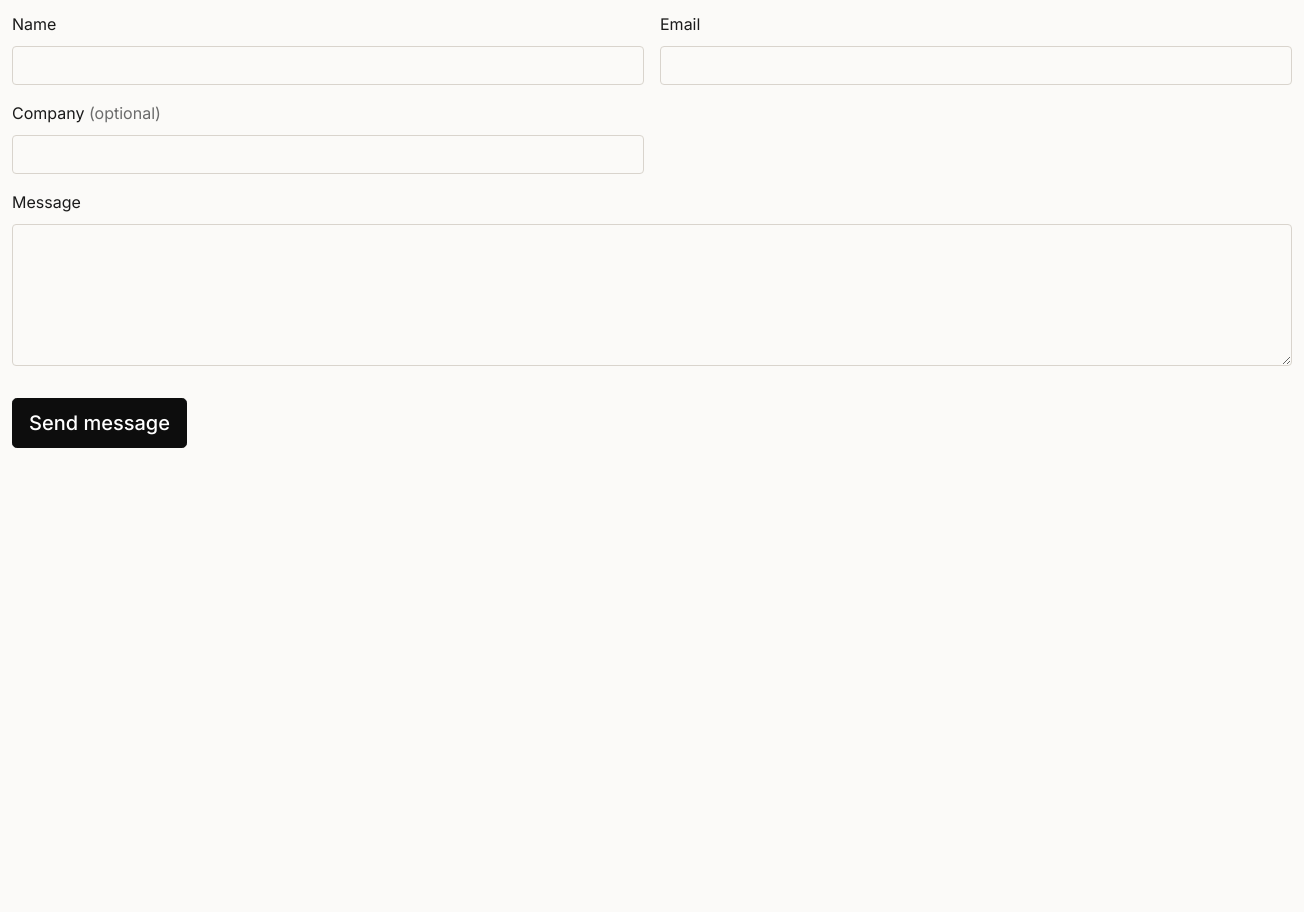
<ContactForm /> › submits to /api/contact and shows a success toast
In the field labelled "Name": (328, 65) [12, 46, 644, 85], type "Jane Doe"
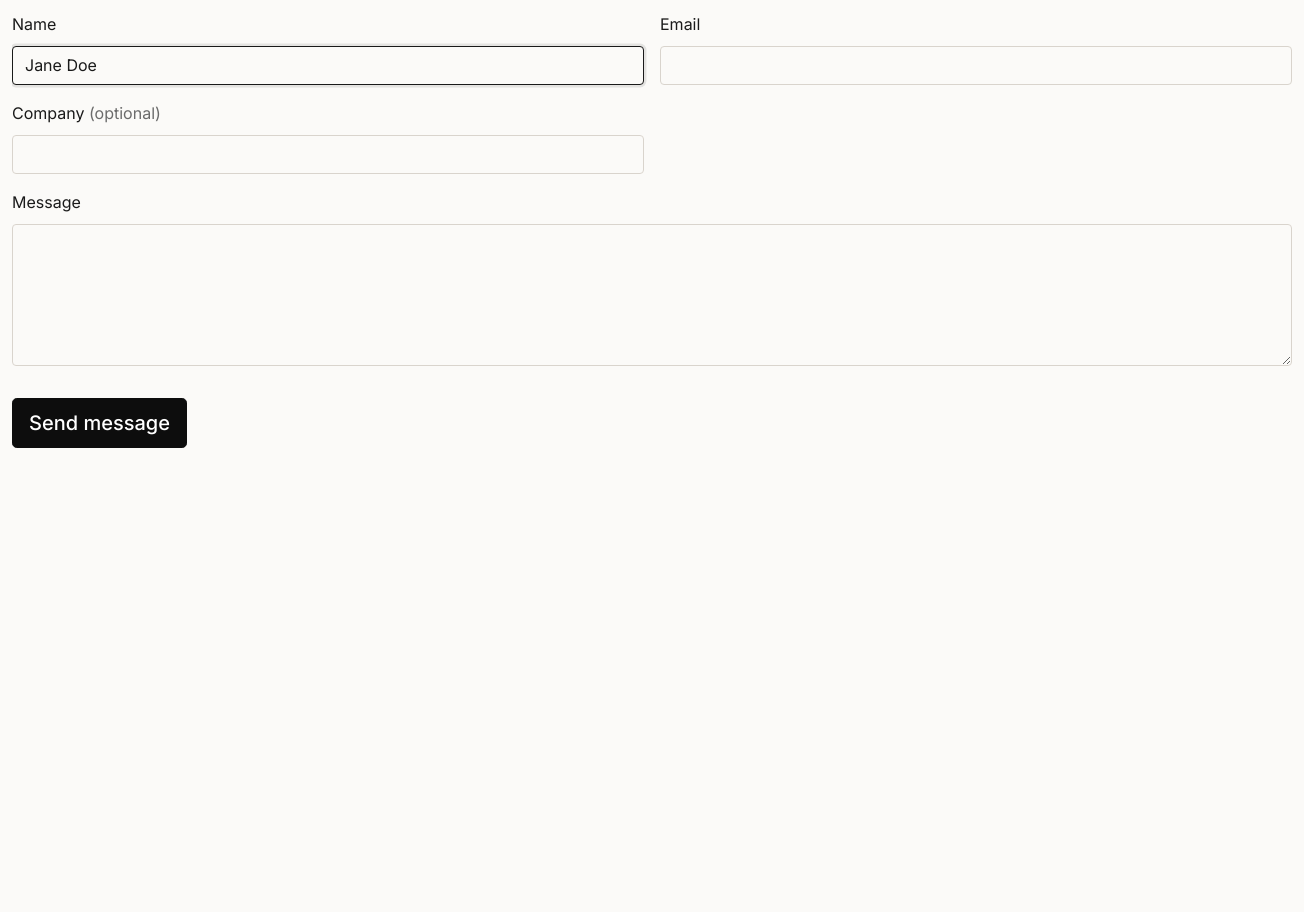
In the field labelled "Email": (976, 65) [660, 46, 1292, 85], type "jane@example.com"
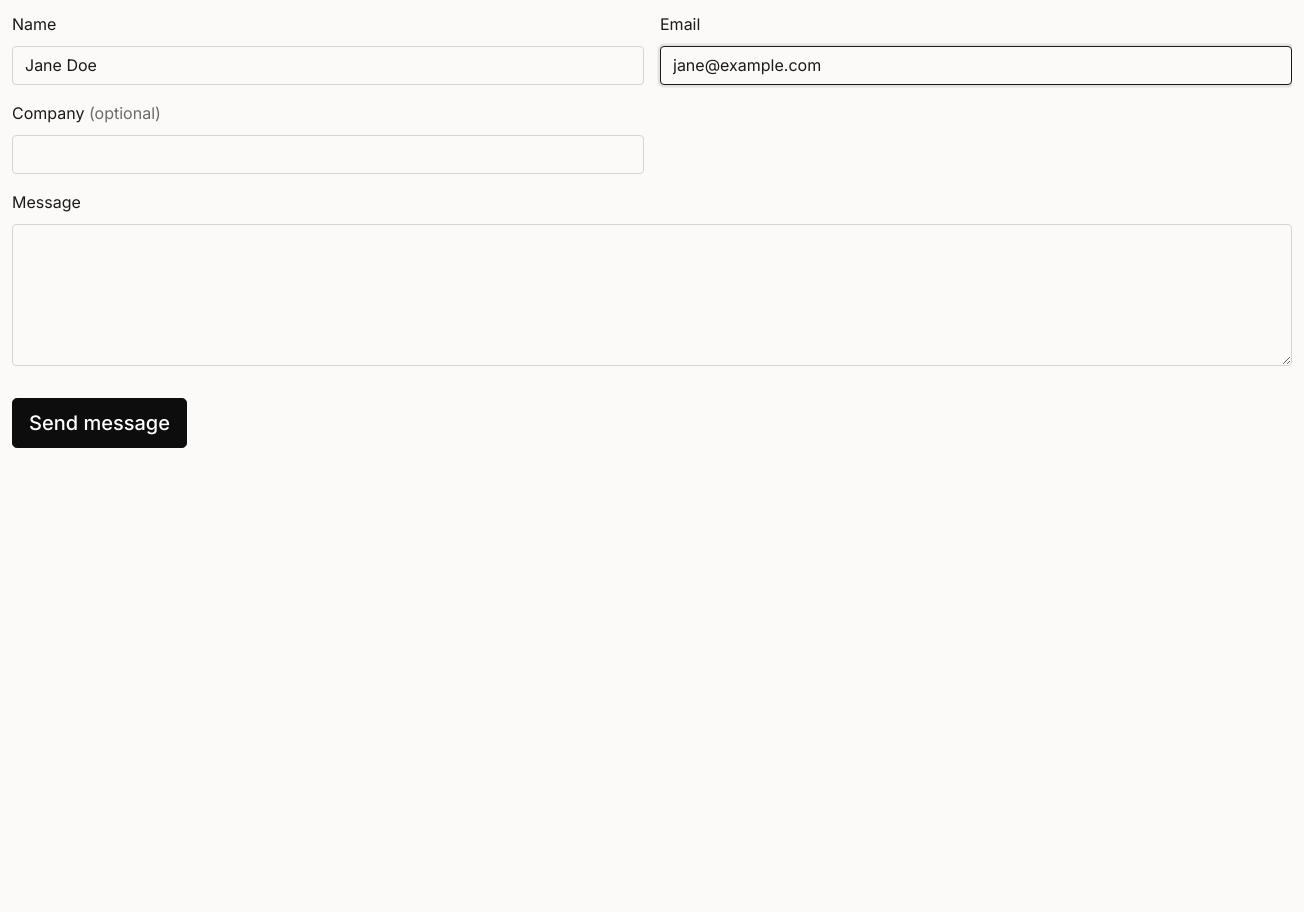
In the text box labelled "Message": (652, 295) [12, 224, 1292, 366], type "Hello there, this is a valid message body."
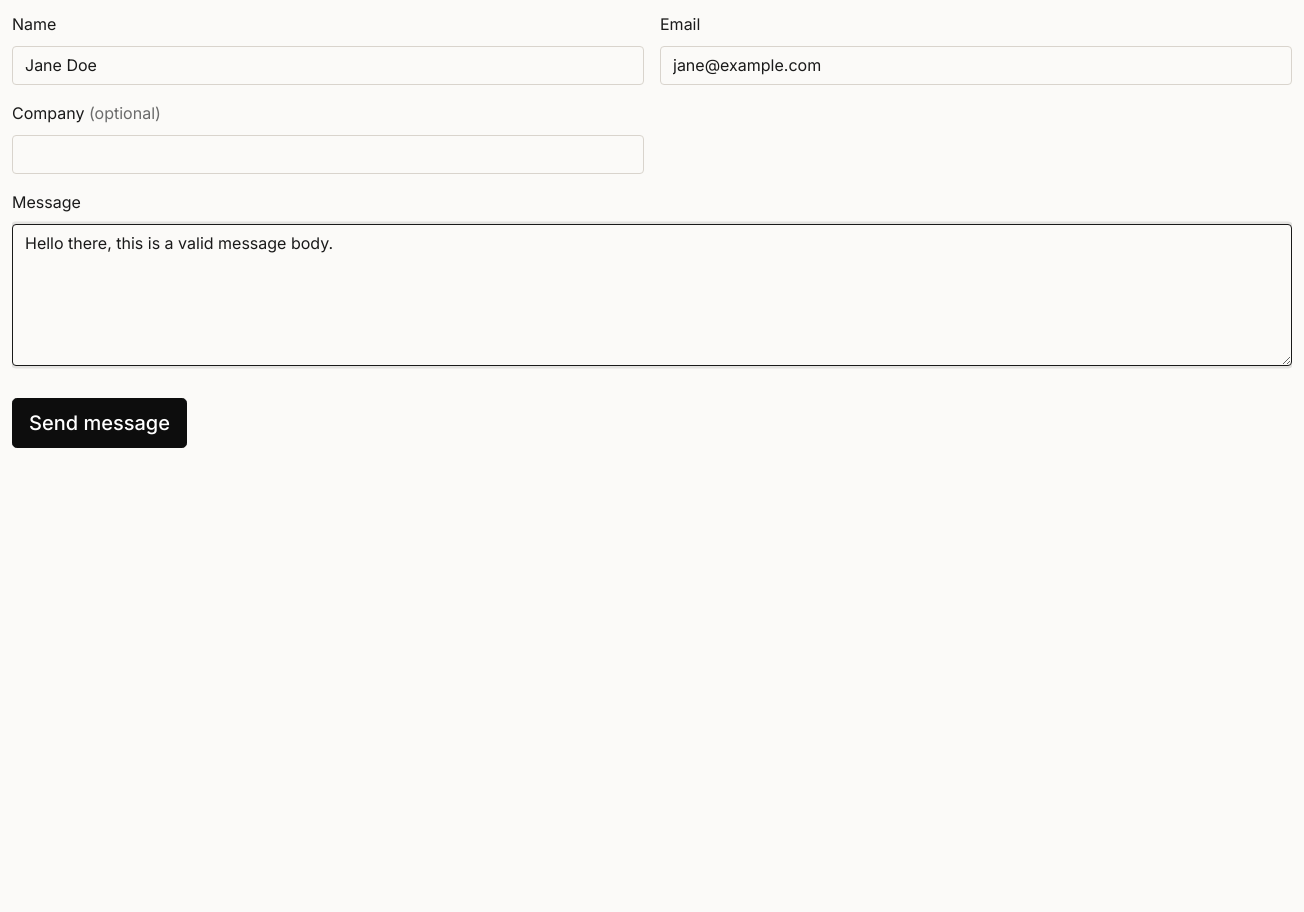
Click the button "Send message": (100, 423) [12, 398, 187, 448]
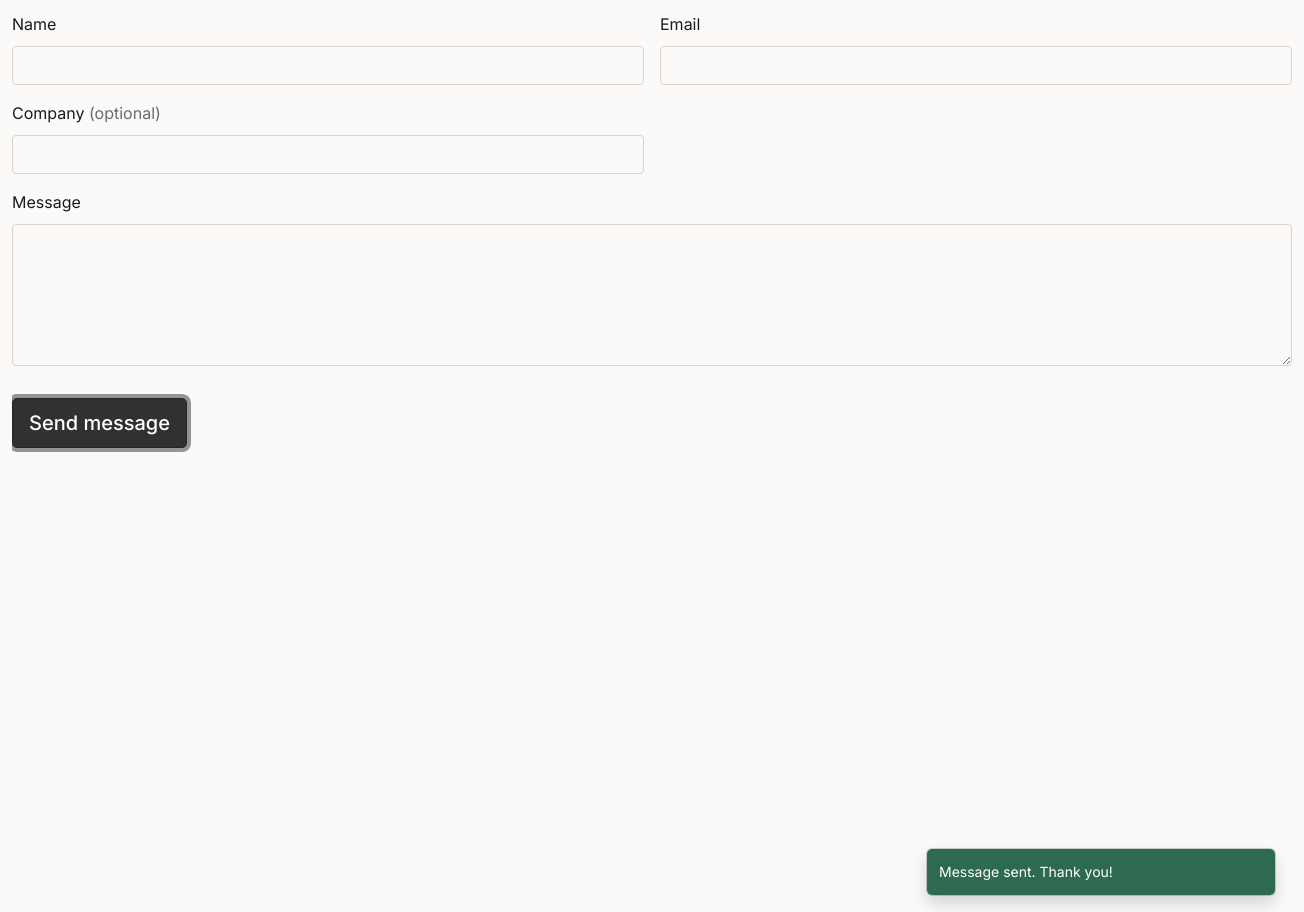
expect the text "Message sent. Thank you!" is shown: met, box [939, 863, 1113, 880]
